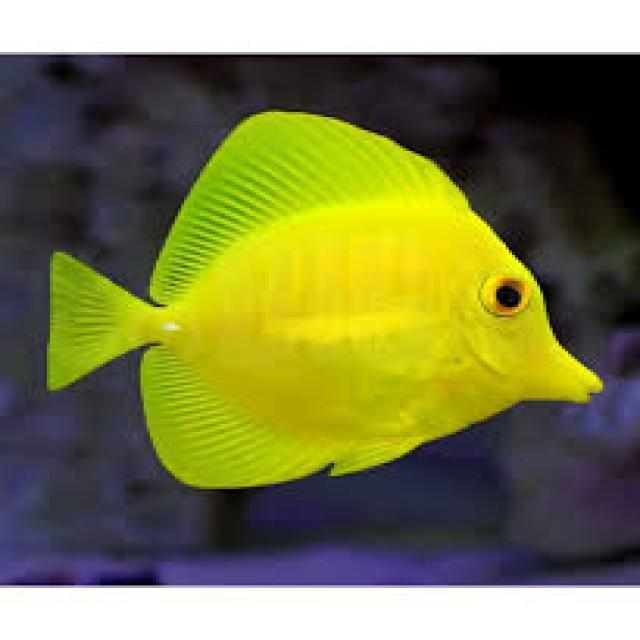TangFish: (37, 108, 606, 490)
